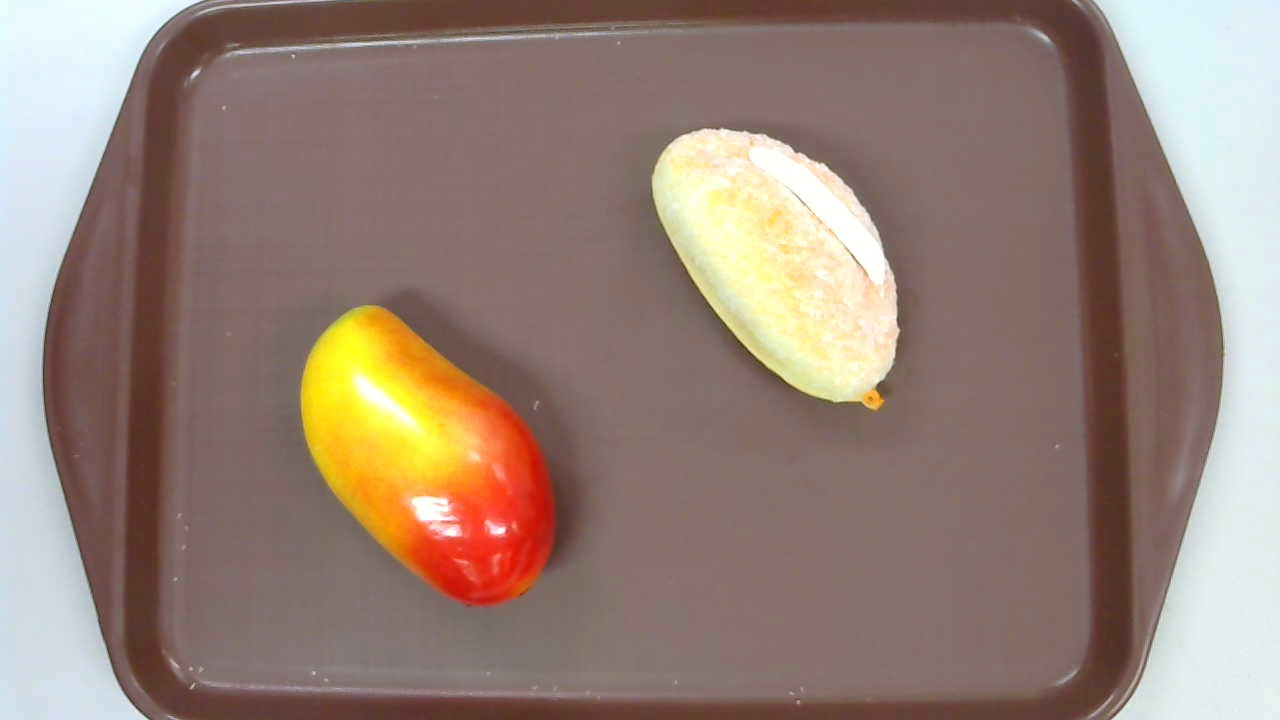coconut: (649, 127, 901, 411)
red mango: (299, 304, 559, 607)
